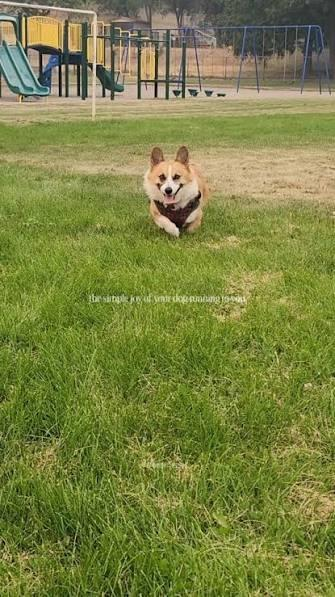adult_dog: (141, 145, 209, 237)
